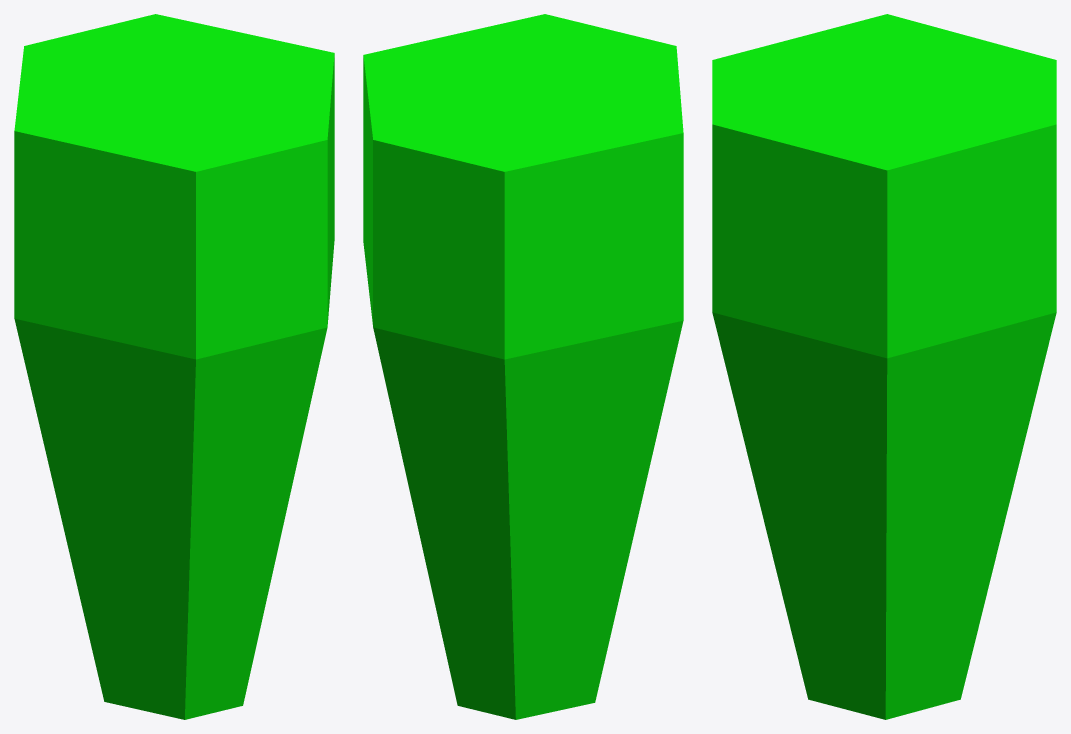
Rendered from ScrewMeshCollider.fbx.
3 renders of one model, left to right at view 1: azimuth 30°, elevation 25°; view 2: azimuth 150°, elevation 25°; view 3: azimuth 270°, elevation 25°, orthographic.
Parts seen in each view (by area): view 1: MeshCollider; view 2: MeshCollider; view 3: MeshCollider.
Boxes of the visible parts, <box> form: MeshCollider: <box>14,14,334,719</box>; MeshCollider: <box>363,14,683,719</box>; MeshCollider: <box>712,14,1056,719</box>.
Size of the model in its own units: 67.75 by 120 by 63.02.
